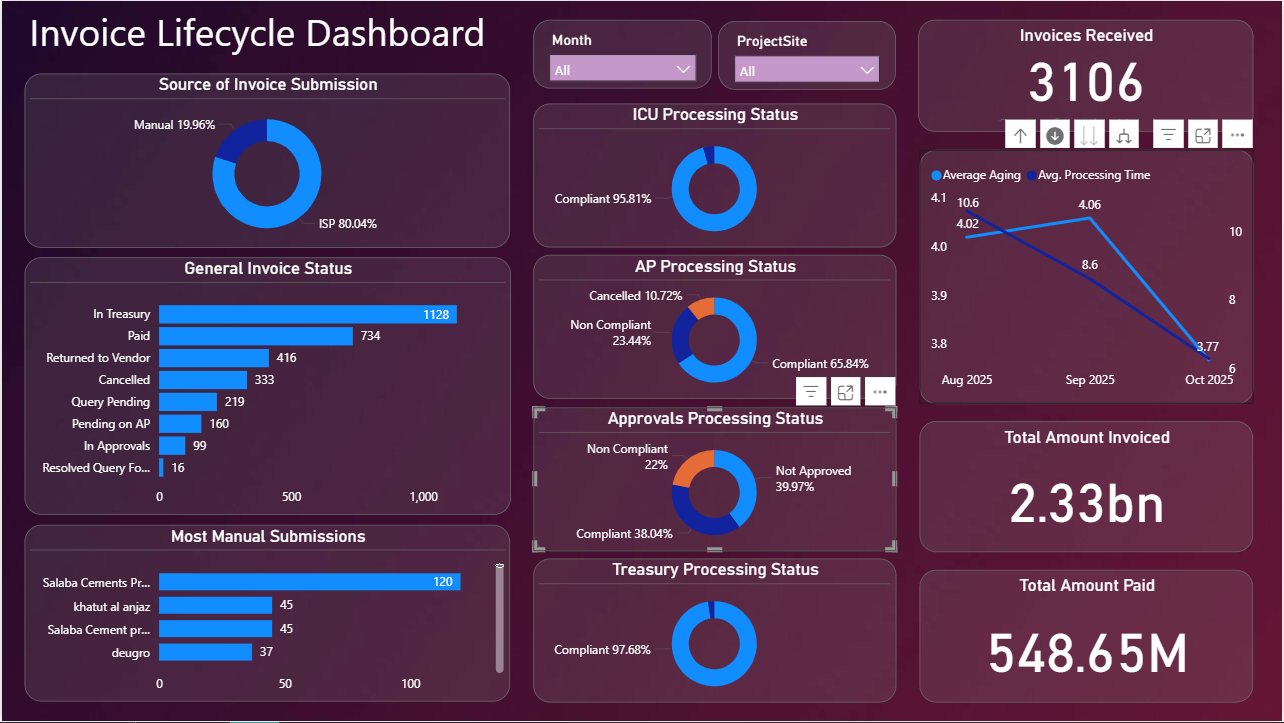

What the dashboard file says about the page in this screenshot:
{"tool":"powerbi","page":{"name":"Page 1","canvas":[1280,720],"ordinal":0},"visuals":[{"type":"textbox","box":[22.5,0,658.8,72.5],"z":0},{"type":"donutChart","title":"Source of Invoice Submission","fields":{"Y":["CountNonNull(Sheet1.Source)"],"Category":["Sheet1.Source"]},"box":[22.9,72.9,485.7,174.3],"z":1000},{"type":"donutChart","title":"ICU Processing Status","fields":{"Category":["Sheet1.ICU Processing Status"],"Y":["CountNonNull(Sheet1.ICU Processing Status)"]},"box":[531.4,102.9,362.9,144.3],"z":2000},{"type":"donutChart","title":"AP Processing Status","fields":{"Category":["Sheet1.AP Processing Status"],"Y":["CountNonNull(Sheet1.AP Processing Status)"]},"box":[531.4,254.3,362.9,144.3],"z":3000},{"type":"slicer","fields":{"Values":["Sheet1.Month"]},"box":[534.3,18.6,178.6,68.6],"z":4000},{"type":"card","title":"Invoices Received","fields":{"Values":["CountNonNull(Sheet1.Invoice Number)"]},"box":[916.7,18.3,335,111.7],"z":5000},{"type":"lineChart","title":"ce Aging  average per Invoice Aging  and Count of Invoice Processing Time average per Invoice Processing Time by Year, Quarter, Month and Day","fields":{"Y":["Sheet1.Count of Invoice Aging  average per Invoice Aging "],"Category":["Sheet1.Month.Variation.Date Hierarchy.Year","Sheet1.Month.Variation.Date Hierarchy.Quarter","Sheet1.Month.Variation.Date Hierarchy.Month","Sheet1.Month.Variation.Date Hierarchy.Day"],"Y2":["Sheet1.Count of Invoice Processing Time average per Invoice Processing Time"]},"box":[917.1,148.6,334.3,254.3],"z":6000},{"type":"donutChart","title":"Approvals Processing Status","fields":{"Y":["CountNonNull(Sheet1.Approvals Processing Status )"],"Category":["Sheet1.Approvals Processing Status "]},"box":[531.4,405.7,362.9,144.3],"z":7000},{"type":"card","title":"Total Amount Invoiced","fields":{"Values":["Sum(Sheet1.Invoice Amount)"]},"box":[917.5,420,333.8,131.2],"z":8000},{"type":"card","title":"Total Amount Paid","fields":{"Values":["Sum(Sheet1.Invoice Amount)"]},"box":[917.5,568.8,333.8,132.5],"z":9000},{"type":"donutChart","title":"Treasury Processing Status","fields":{"Y":["CountNonNull(Sheet1.Treasury Processing Status)"],"Category":["Sheet1.Treasury Processing Status"]},"box":[531.4,557.1,362.9,144.3],"z":10000},{"type":"barChart","title":"General Invoice Status","fields":{"Category":["Sheet1.FInal Status"],"Y":["CountNonNull(Sheet1.FInal Status)"]},"box":[22.5,256.2,486.2,257.5],"z":11000},{"type":"barChart","title":"Most Manual Submissions","fields":{"Category":["Sheet1.Supplier/Vendor"],"Y":["CountNonNull(Sheet1.Supplier/Vendor)"]},"box":[22.9,524.3,485.7,177.1],"z":11001},{"type":"slicer","fields":{"Values":["Sheet1.ProjectSite"]},"box":[715.7,18.6,178.6,68.6],"z":11002}]}

Visuals, with their boxes in screenshot pixels (x1, y1, x2, y2), scaled from the page's 1280x720 canvas onto the 1284x723 screenshot:
textbox: bbox=(23, 0, 683, 73)
"Source of Invoice Submission" donutChart: bbox=(23, 73, 510, 248)
"ICU Processing Status" donutChart: bbox=(533, 103, 897, 248)
"AP Processing Status" donutChart: bbox=(533, 255, 897, 400)
slicer - Sheet1.Month: bbox=(536, 19, 715, 88)
"Invoices Received" card: bbox=(920, 18, 1256, 131)
"ce Aging  average per Invoice Aging  and Count of Invoice Processing Time average per Invoice Processing Time by Year, Quarter, Month and Day" lineChart: bbox=(920, 149, 1255, 405)
"Approvals Processing Status" donutChart: bbox=(533, 407, 897, 552)
"Total Amount Invoiced" card: bbox=(920, 422, 1255, 553)
"Total Amount Paid" card: bbox=(920, 571, 1255, 704)
"Treasury Processing Status" donutChart: bbox=(533, 559, 897, 704)
"General Invoice Status" barChart: bbox=(23, 257, 510, 516)
"Most Manual Submissions" barChart: bbox=(23, 526, 510, 704)
slicer - Sheet1.ProjectSite: bbox=(718, 19, 897, 88)
